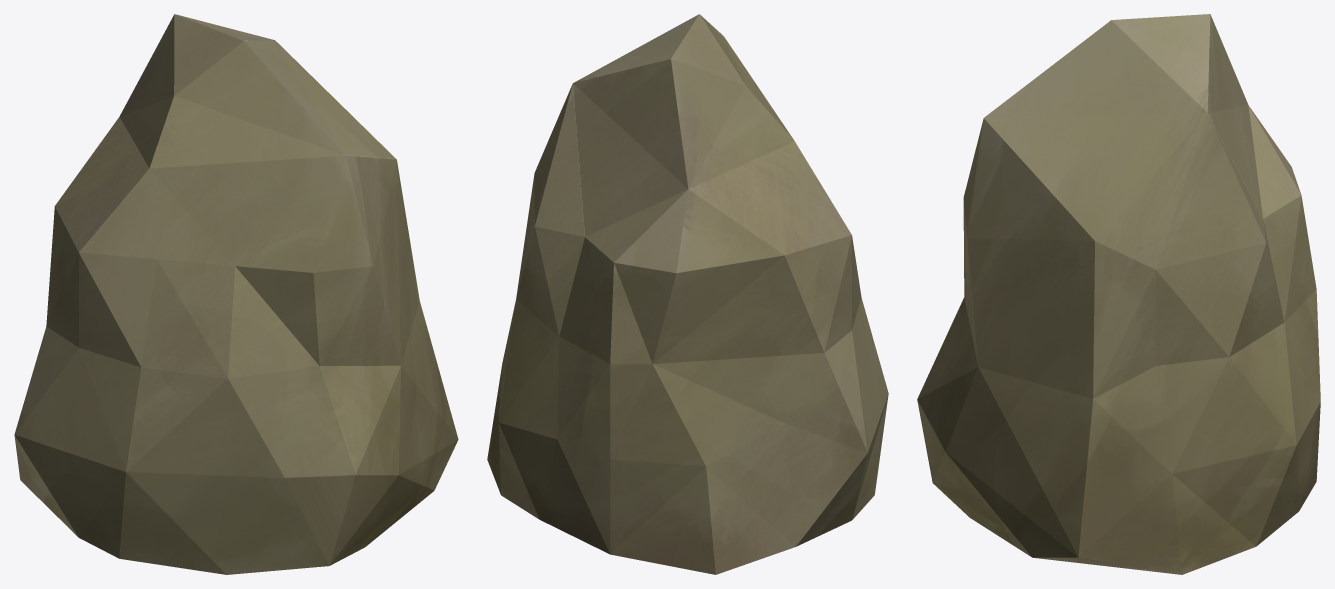
Rendered from Rock_1.obj.
3 views of the same model, side by side, from view 1: azimuth 30°, elevation 25°; view 2: azimuth 150°, elevation 25°; view 3: azimuth 270°, elevation 25° (orthographic).
Parts seen in each view (by area): view 1: Rock_1; view 2: Rock_1; view 3: Rock_1.
Boxes of the visible parts, box(x1,y1,x2,y2) form: Rock_1: box(14, 14, 458, 574); Rock_1: box(487, 14, 888, 574); Rock_1: box(917, 14, 1320, 574).
Bounding box in the file's own units: 11.41 × 12.88 × 9.94.
Materials: 1 (1 with a texture image).
